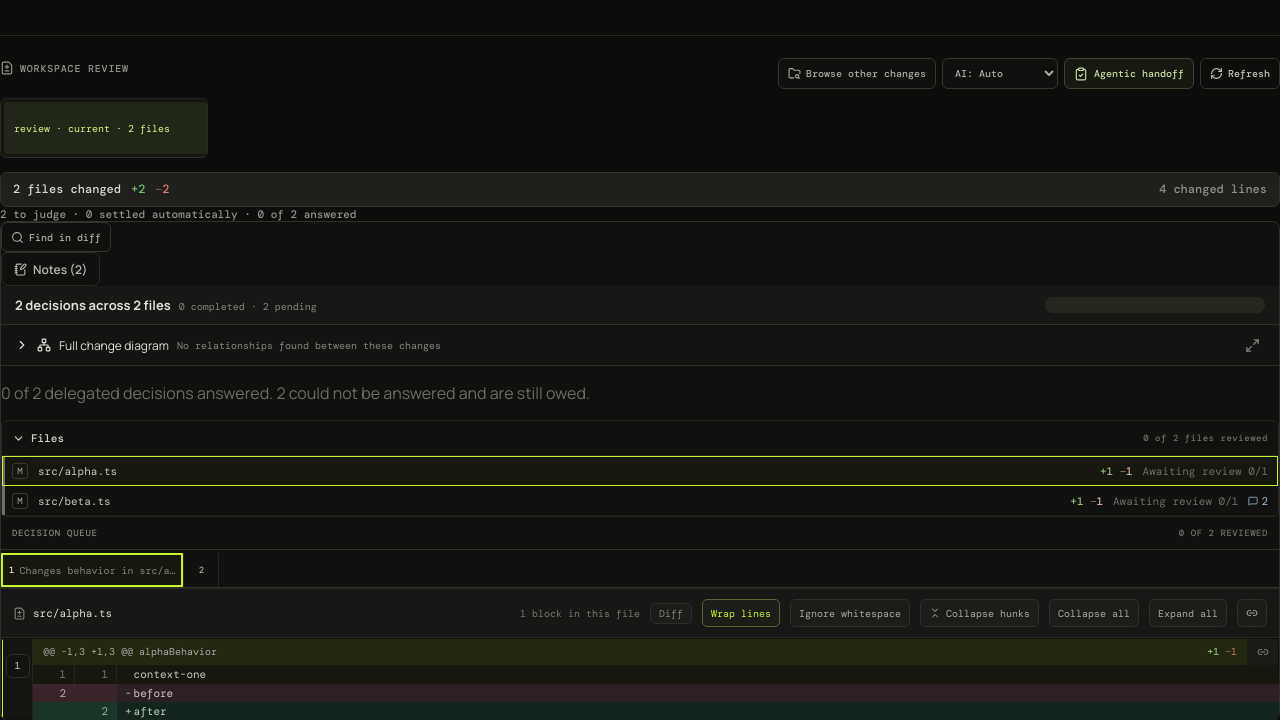
review notes in the diff view › keeps resolved state across a remount and marks a note whose code changed as outdated
The width and height of the screenshot is (1280, 720).
Expected: the element named "Full diff for src/alpha.ts" is shown, [1, 589, 1279, 719]
What coordinates should you click on to do the following:
click the button "Notes (2)"
I would click on:
 (51, 269)
Its box is [1, 252, 100, 286].
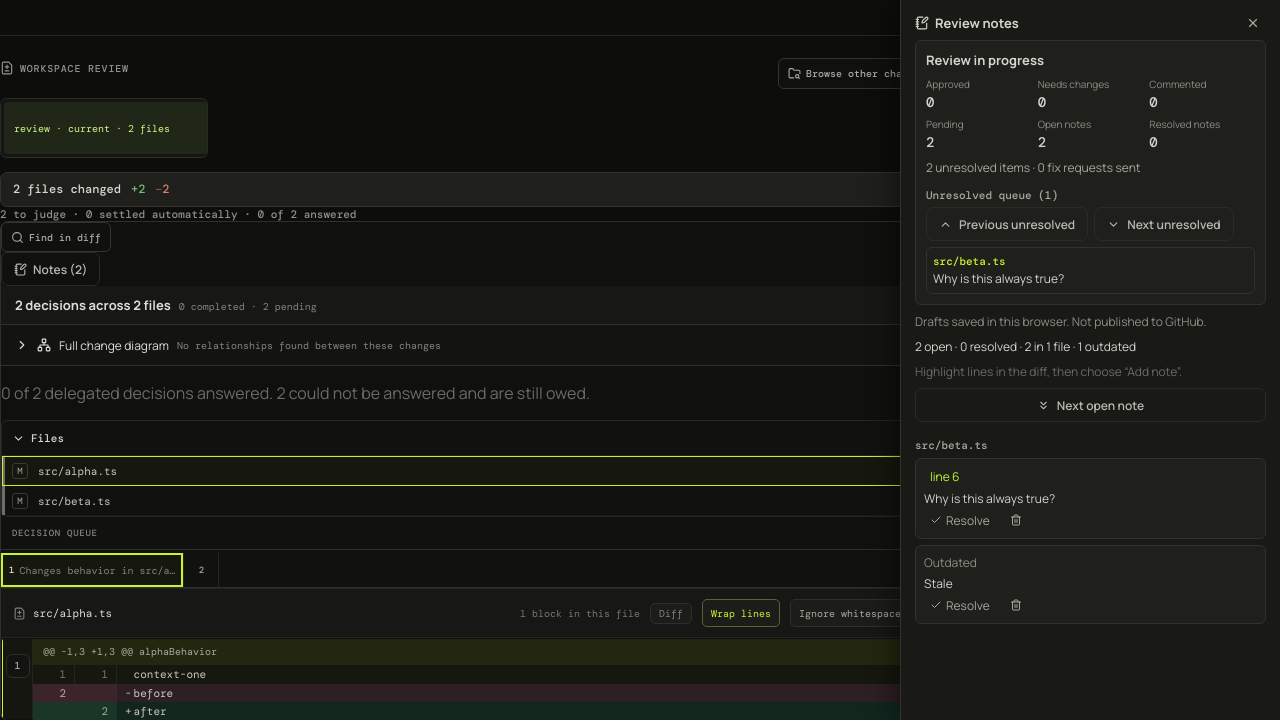
Result: the text "Outdated" is shown at [924, 554, 977, 571]
What coordinates should you click on to do the following:
click the 1st button "Resolve"
I would click on:
 (960, 520)
Its box is [924, 511, 996, 530].
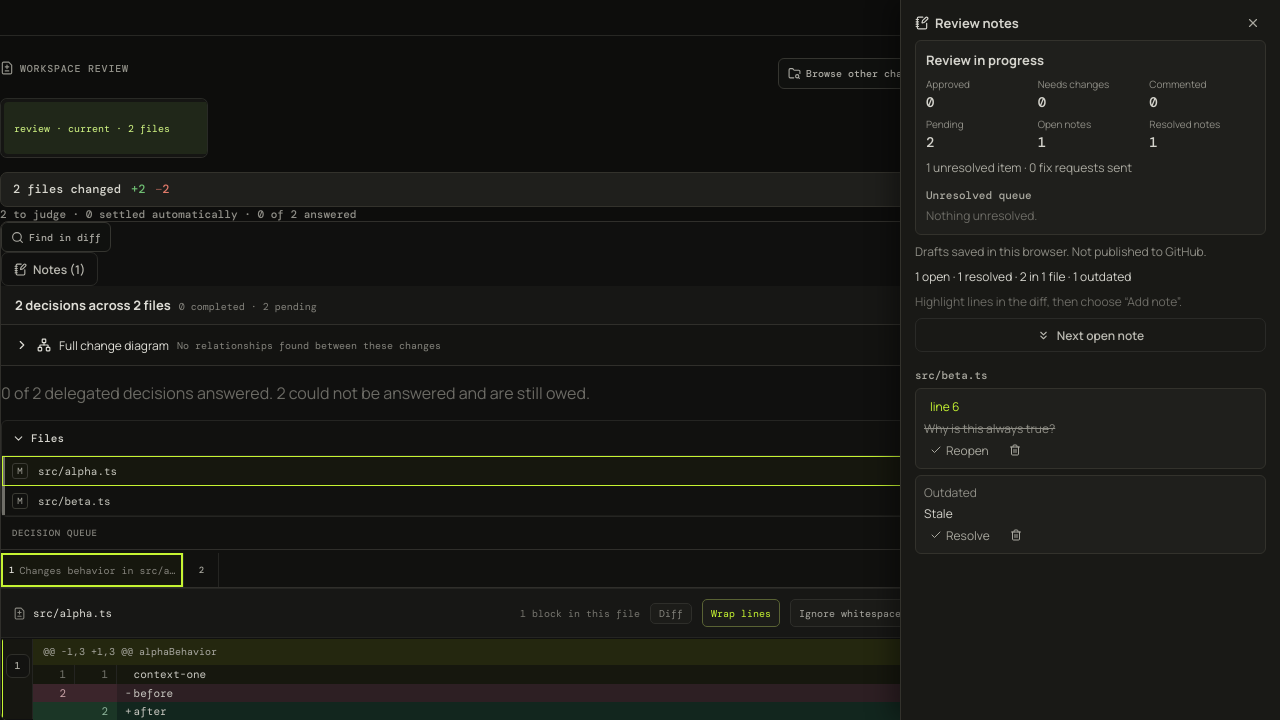
Result: the message "1 open · 1 resolved · 2 in 1 file · 1 outdated" is shown at [915, 268, 1131, 285]
